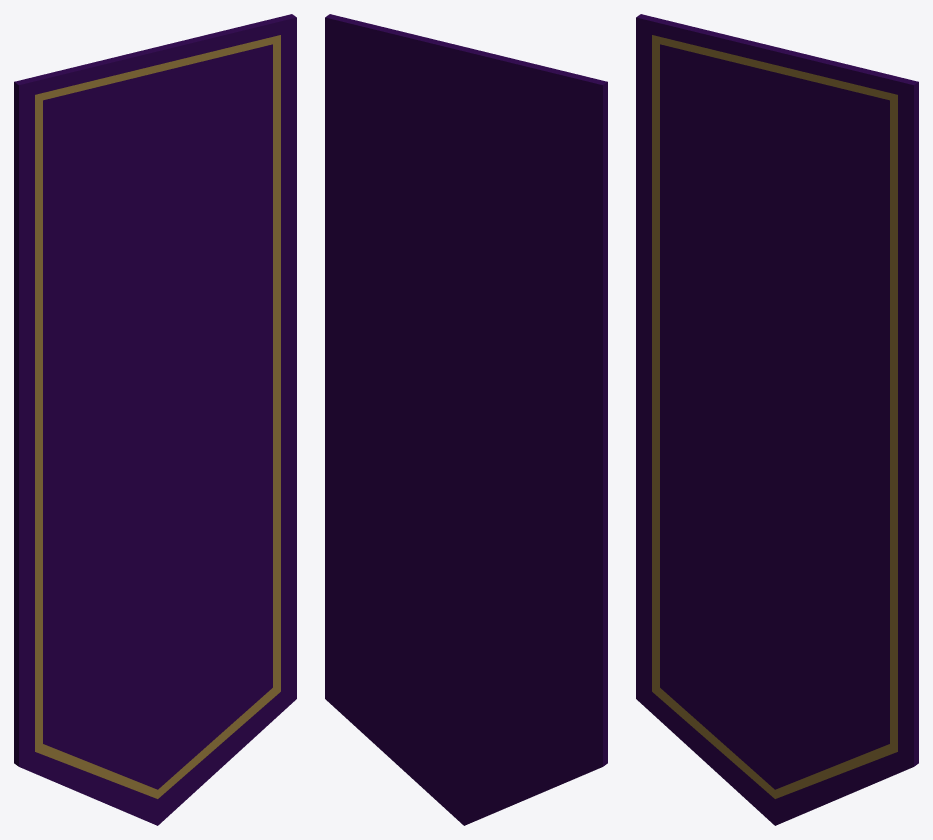
Rendered from tapestry 3.fbx.
The picture shows the model from 3 angles, left to right: view 1: azimuth 30°, elevation 25°; view 2: azimuth 150°, elevation 25°; view 3: azimuth 330°, elevation 25°; orthographic projection.
Visible parts, largest first — view 1: Cube; view 2: Cube; view 3: Cube.
Boxes of the visible parts, x1,y1,x2,y2 form: Cube: [14, 14, 296, 825]; Cube: [325, 14, 607, 825]; Cube: [636, 14, 918, 825].
Bounding box in the file's own units: 273 × 8.08 × 728.
